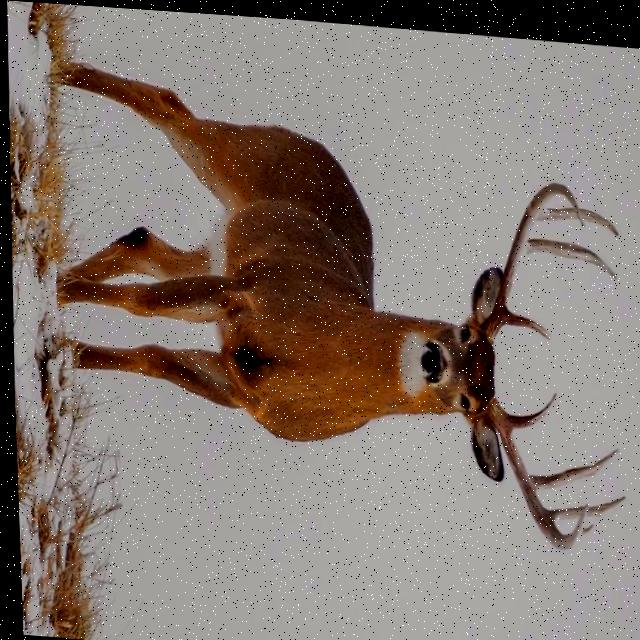E1: (577, 517, 588, 527)
L-F: (476, 175, 583, 336)
L-G1: (498, 298, 548, 332)
L-G2: (520, 230, 614, 271)
R-F: (480, 391, 583, 542)
R-G1: (503, 384, 552, 425)
R-G2: (524, 439, 615, 484)
